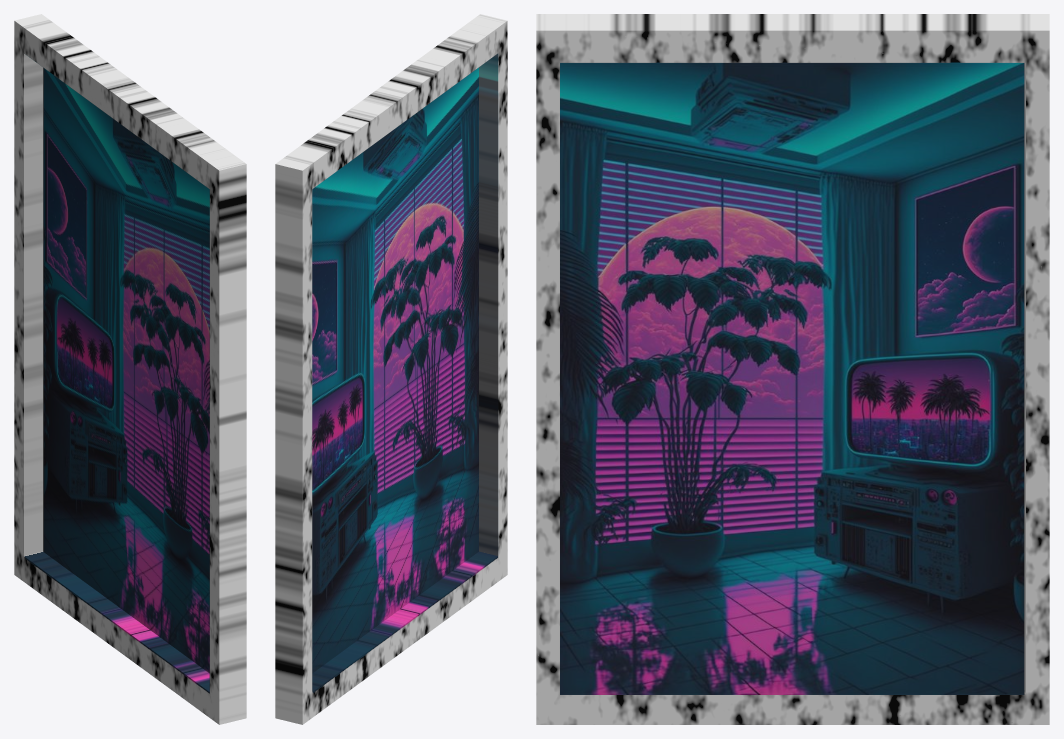
File: poster 2.fbx
3 views of the same model, side by side, from view 1: azimuth 30°, elevation 25°; view 2: azimuth 150°, elevation 25°; view 3: azimuth 270°, elevation 25° (orthographic). The views are drawn at different scales.
Parts seen in each view (by area): view 1: poster.001; view 2: poster.001; view 3: poster.001.
Boxes of the visible parts, bbox=[...] form: poster.001: bbox=[14, 14, 246, 724]; poster.001: bbox=[275, 14, 507, 724]; poster.001: bbox=[536, 14, 1049, 724].
Size of the model in its own units: 6.11 by 119 by 79.45.
1 material, 1 textured.
